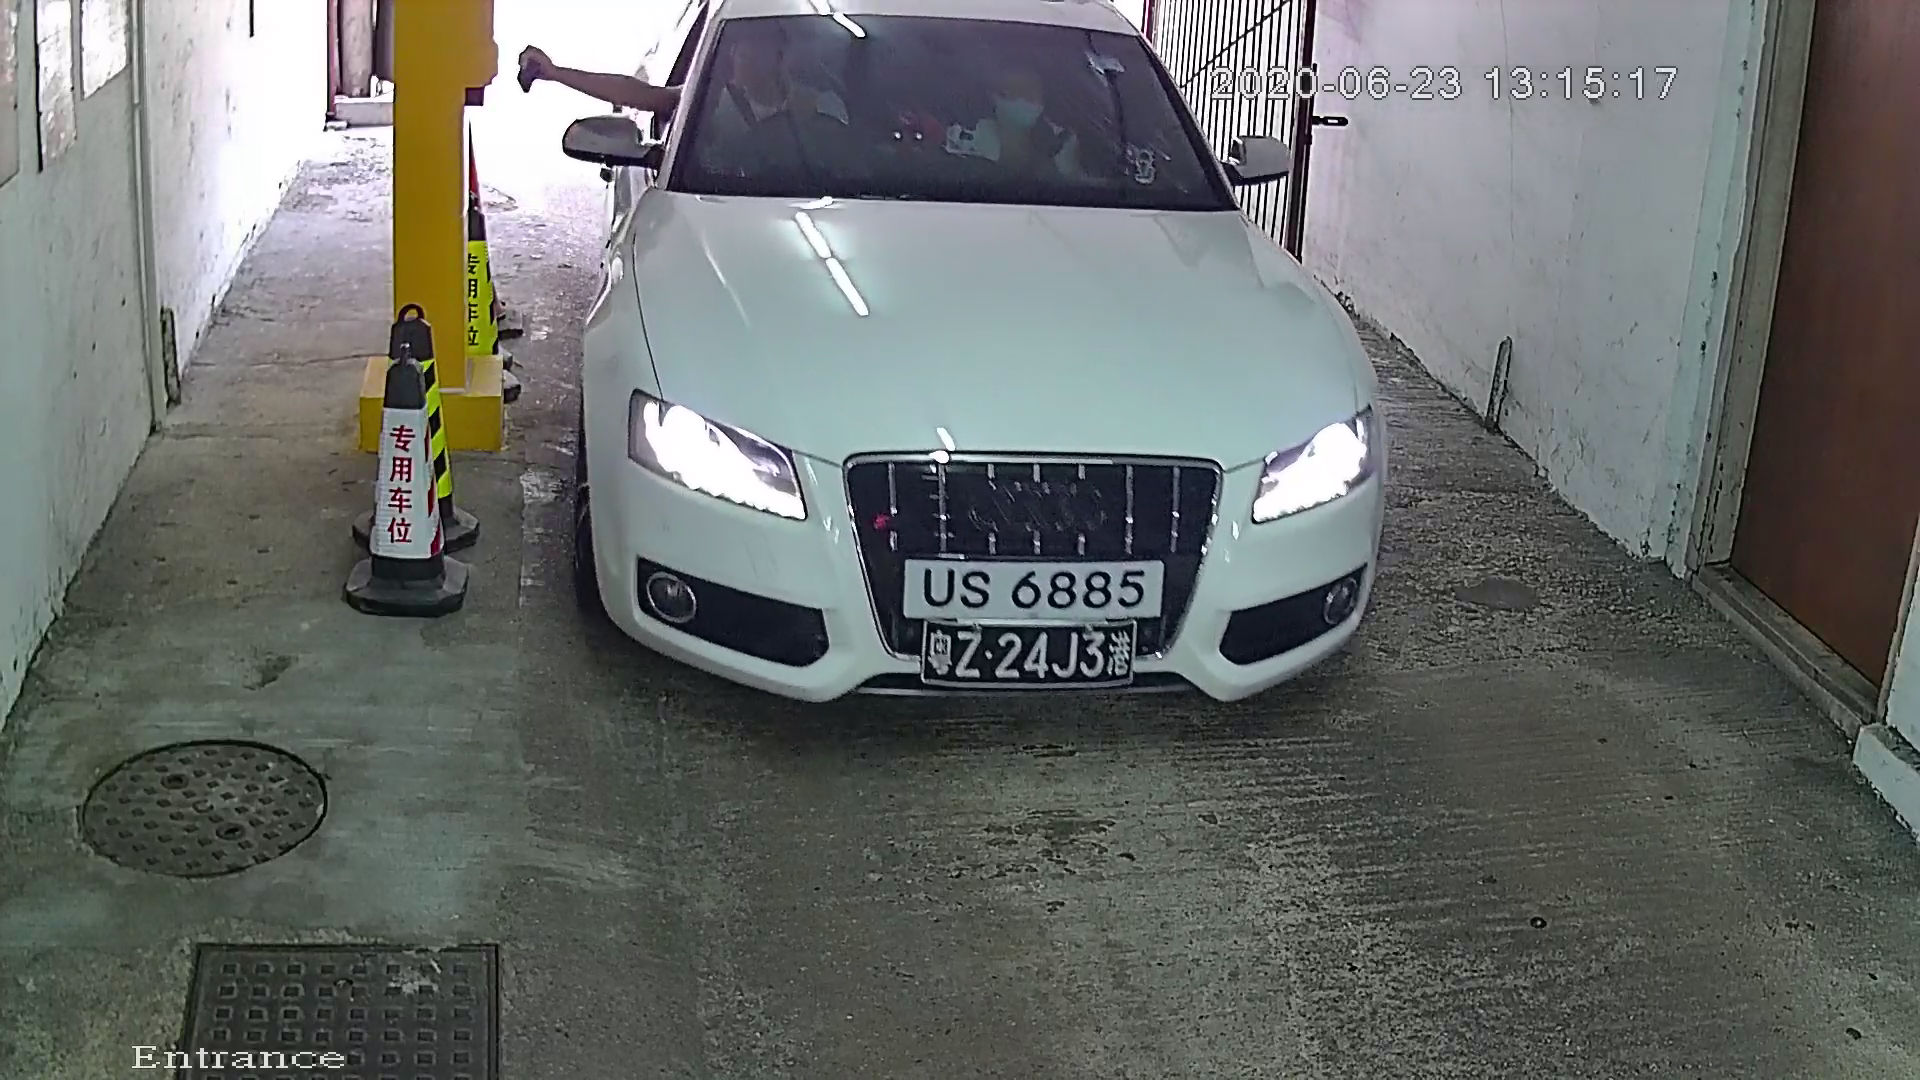privatecar: (516, 3, 1423, 738)
